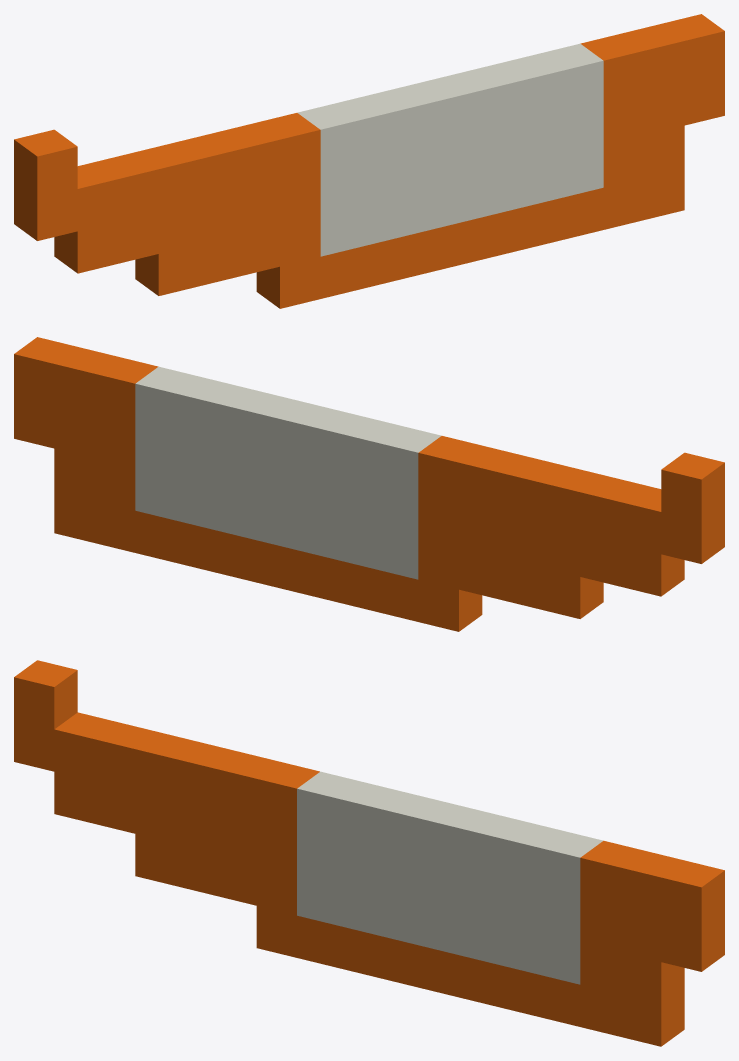
The model's file is dirt_bike_side_panel.glb.
3 renders of one model, top to bottom at view 1: azimuth 30°, elevation 25°; view 2: azimuth 150°, elevation 25°; view 3: azimuth 330°, elevation 25°, orthographic.
Parts seen in each view (by area): view 1: body:compound; view 2: body:compound; view 3: body:compound.
Boxes of the visible parts, left/top/right/bottom form: body:compound: left=14, top=14, right=724, bottom=308; body:compound: left=14, top=337, right=724, bottom=631; body:compound: left=14, top=660, right=724, bottom=1046.
Bounding box in the file's own units: 0.5312 × 0.1562 × 0.0312.
